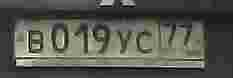license-plateSW: (13, 14, 209, 62)
